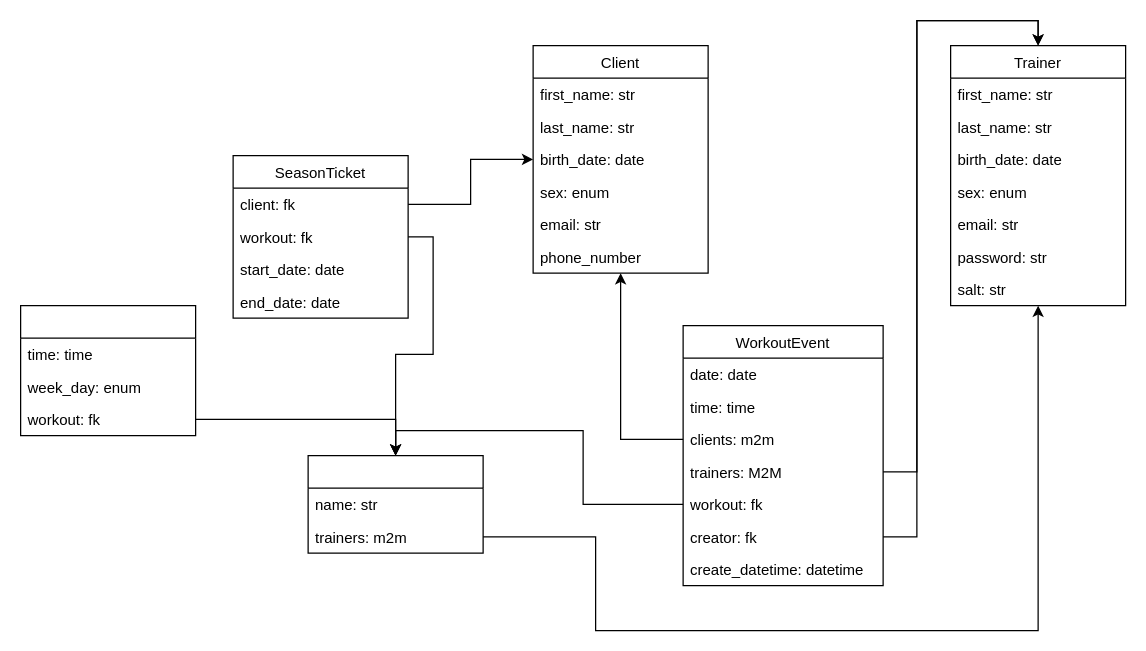
Image size: 1146x651. Some labels were removed from this diagram. The box of each missing label's shape, as (x1, y1, x2, y2) in pixels:
Workout: (307, 454, 483, 553)
WorkoutTime: (19, 304, 196, 436)
